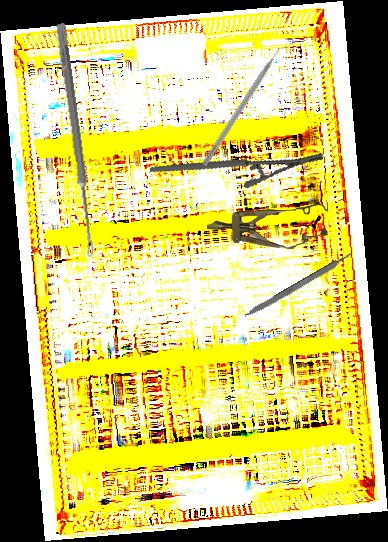Chopper: (201, 40, 293, 172)
Needle Holder: (149, 109, 325, 216)
Scalpel Handle: (243, 251, 354, 321)
Speculum: (206, 200, 329, 251)
Surgical Spoon: (54, 22, 98, 259)
